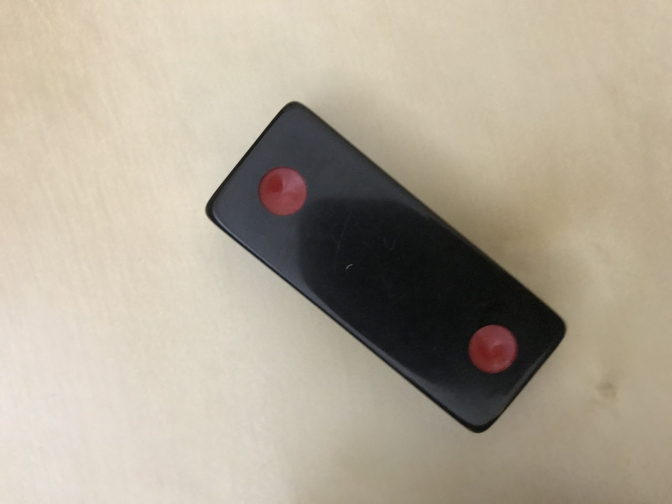earth: (205, 100, 568, 434)
